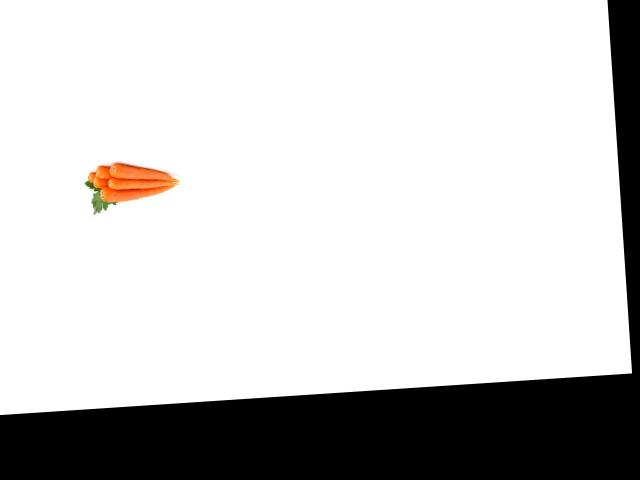carrot: (84, 171, 97, 183)
